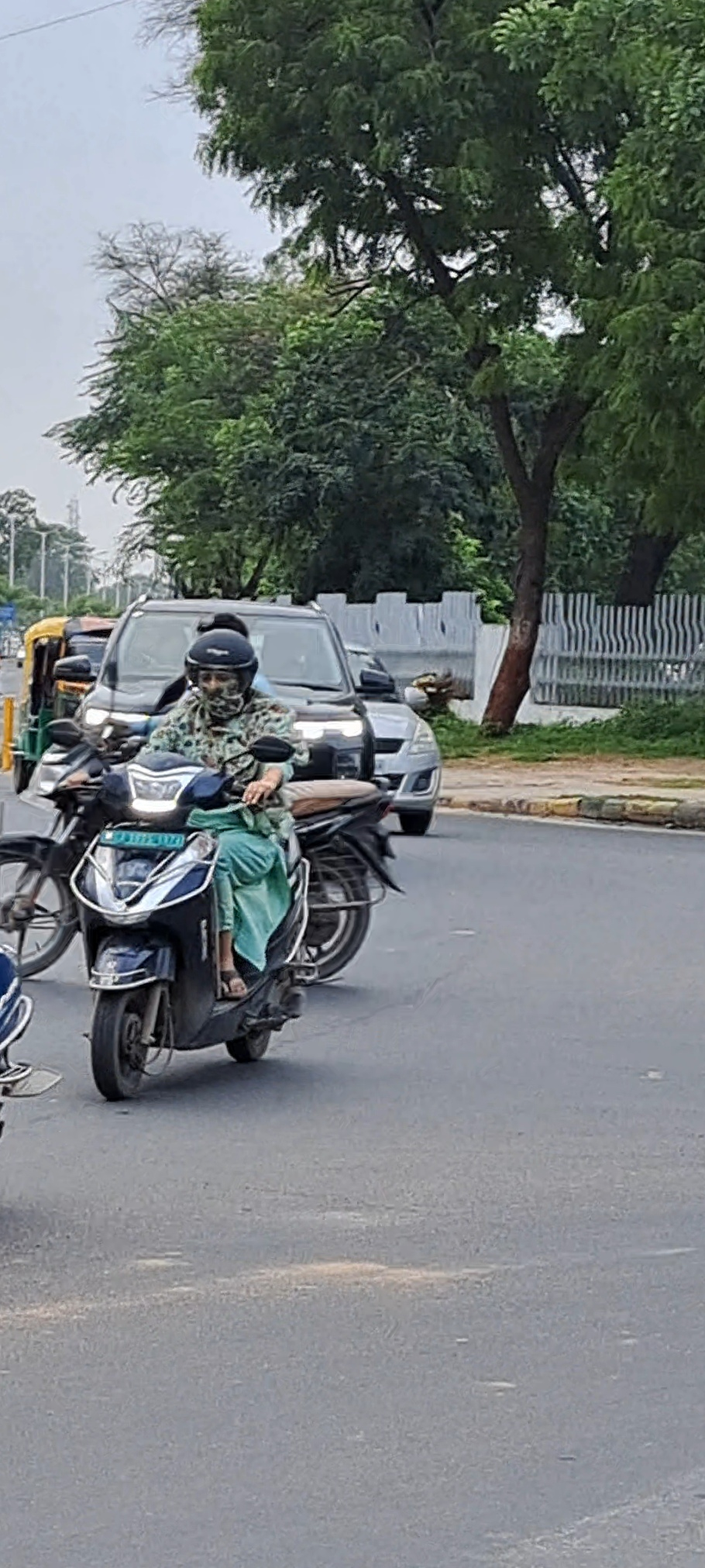BikeWithRider: (0, 598, 456, 990), (96, 622, 351, 1119)
Helmet: (171, 625, 260, 718), (189, 609, 260, 670)
